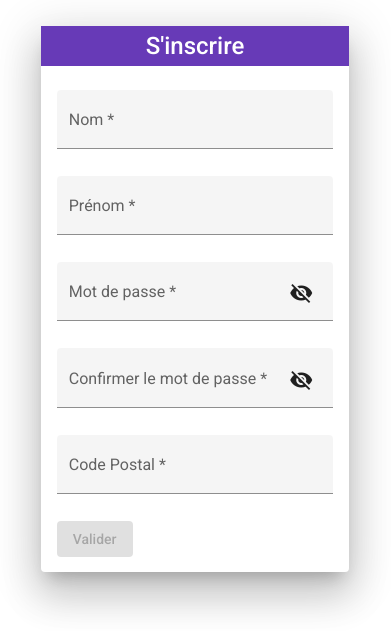
Scenario: Sign In Form › should show and hide the reset button based on input value
This screenshot has width=391, height=631.
Type "Guichon" into the field named "lastname" at [196, 128], box 69,119 -> 322,137
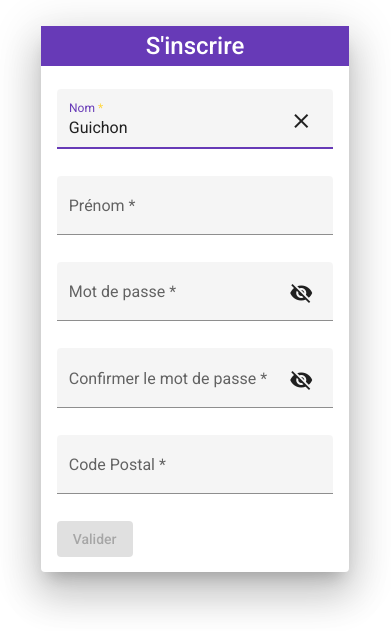
Expected: the button named "Clear" is shown
Click the button named "Clear" at [301, 121], box 281,101 -> 321,141
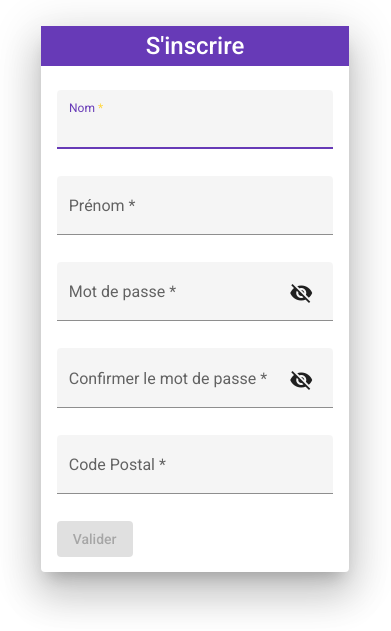
Expected: the button named "Clear" is gone
